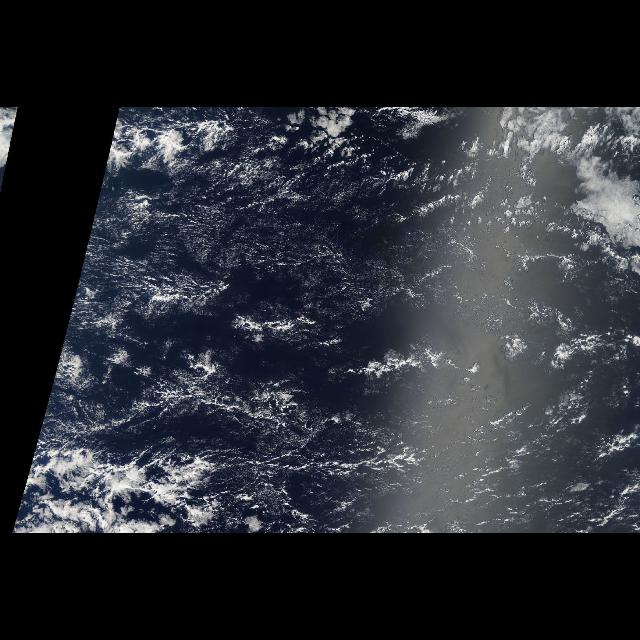Sugar: (58, 177, 510, 357)
